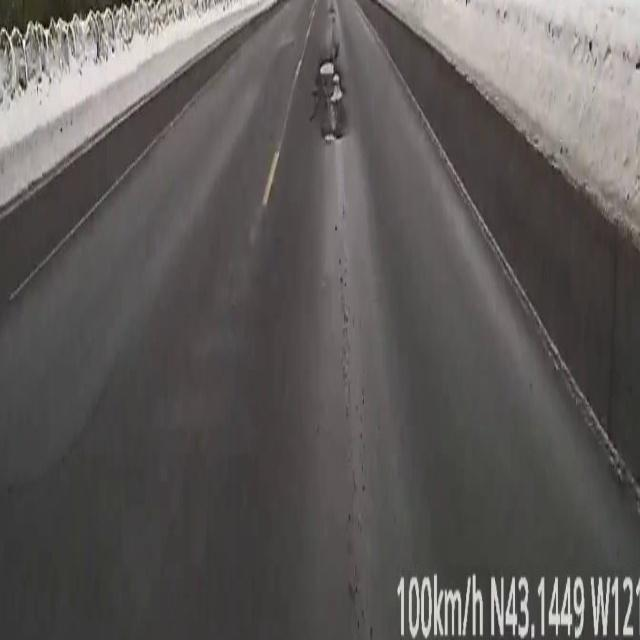pothole: (314, 59, 344, 143)
